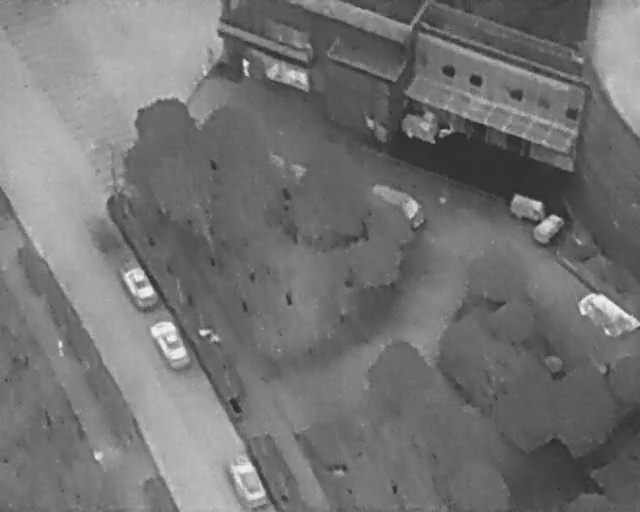Car: (221, 447, 271, 510), (145, 315, 196, 375), (114, 255, 163, 313), (529, 211, 565, 248), (508, 192, 549, 224)
